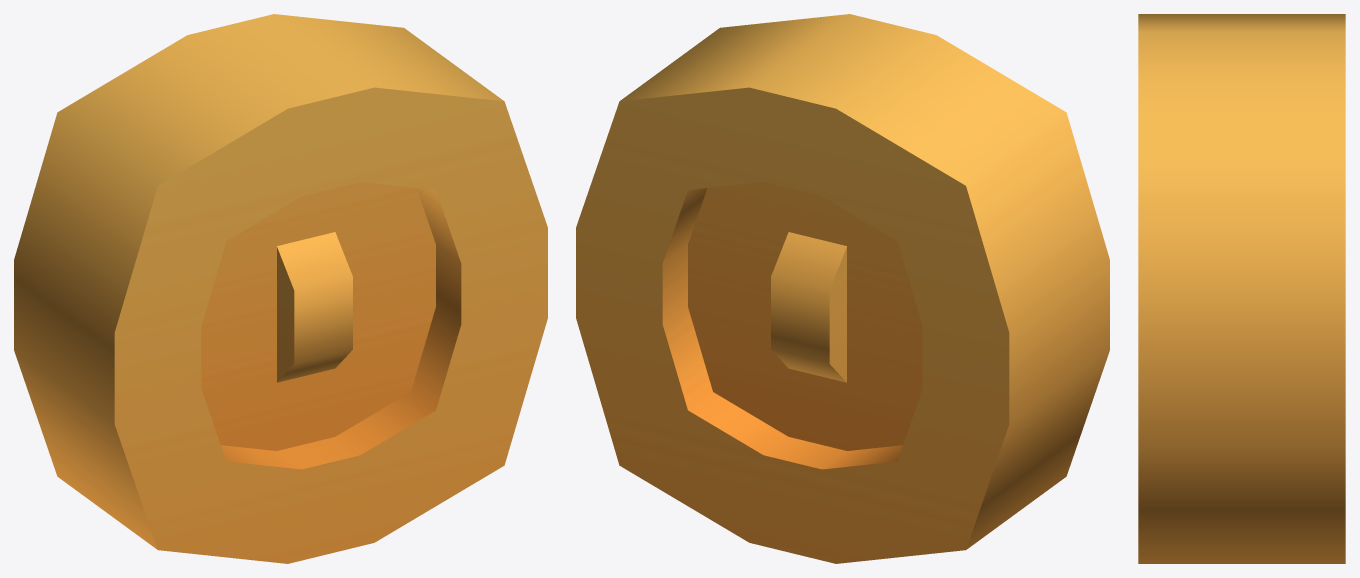
The model's file is coin.gltf.
3 views of the same model, side by side, from view 1: azimuth 30°, elevation 25°; view 2: azimuth 150°, elevation 25°; view 3: azimuth 270°, elevation 25° (orthographic). The views are drawn at different scales.
Parts seen in each view (by area): view 1: coin; view 2: coin; view 3: coin.
Boxes of the visible parts, <box> form: coin: <box>14,14,547,563</box>; coin: <box>576,14,1109,563</box>; coin: <box>1138,14,1345,563</box>.
Bounding box in the file's own units: 0.415 × 0.4167 × 0.1667.
1 material, 1 textured.
